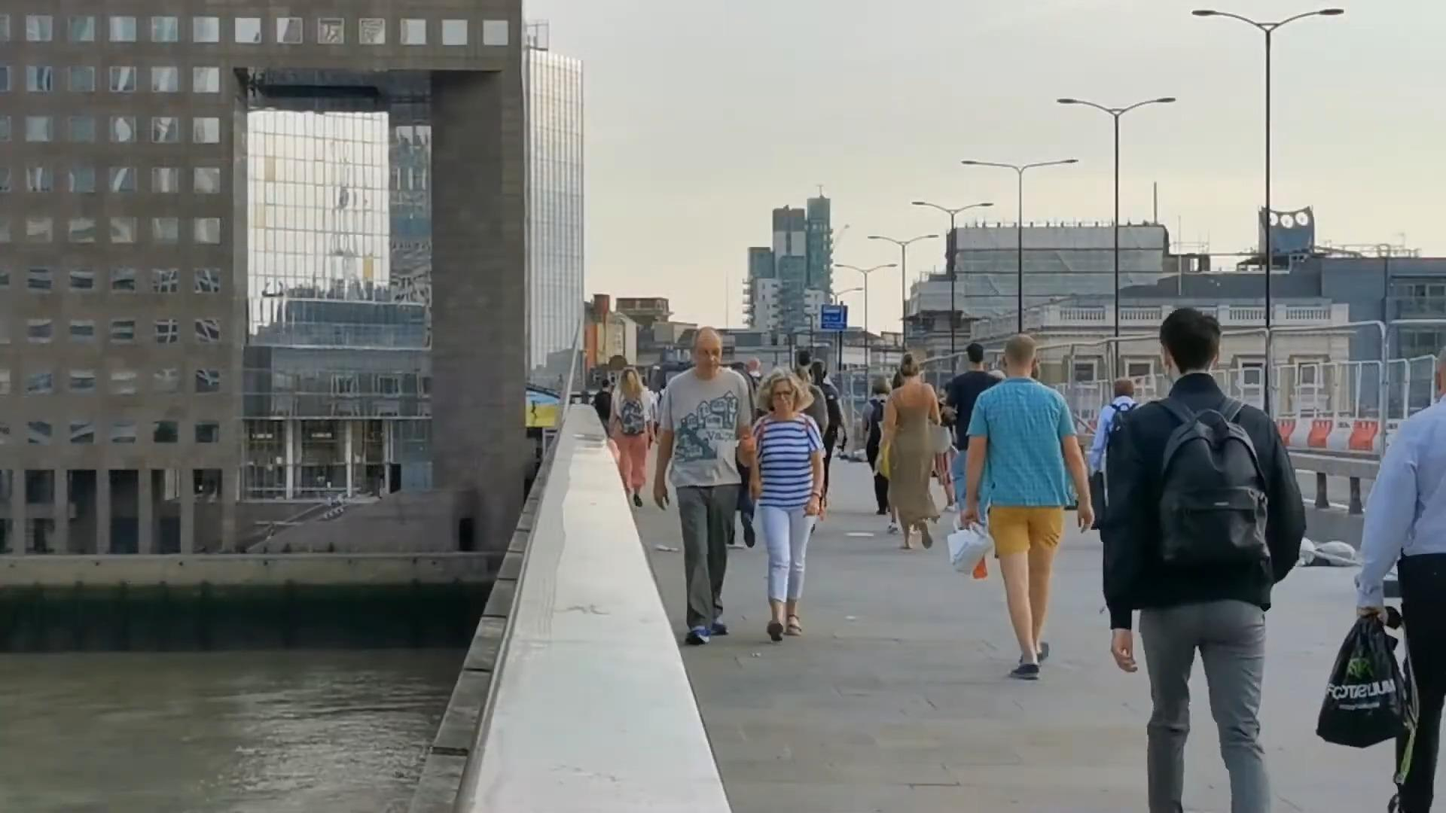no-helmet: (1159, 308, 1222, 384), (755, 366, 815, 417), (691, 325, 722, 376), (1002, 333, 1037, 376), (618, 366, 644, 403), (899, 351, 921, 385), (966, 343, 984, 368)
